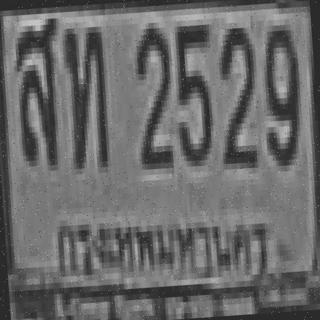A23: (61, 23, 108, 166)
A40: (10, 13, 63, 167)
N02: (212, 22, 259, 164), (130, 22, 173, 164)
N05: (169, 19, 215, 162)
N09: (258, 18, 302, 161)
P04: (50, 197, 276, 297)
